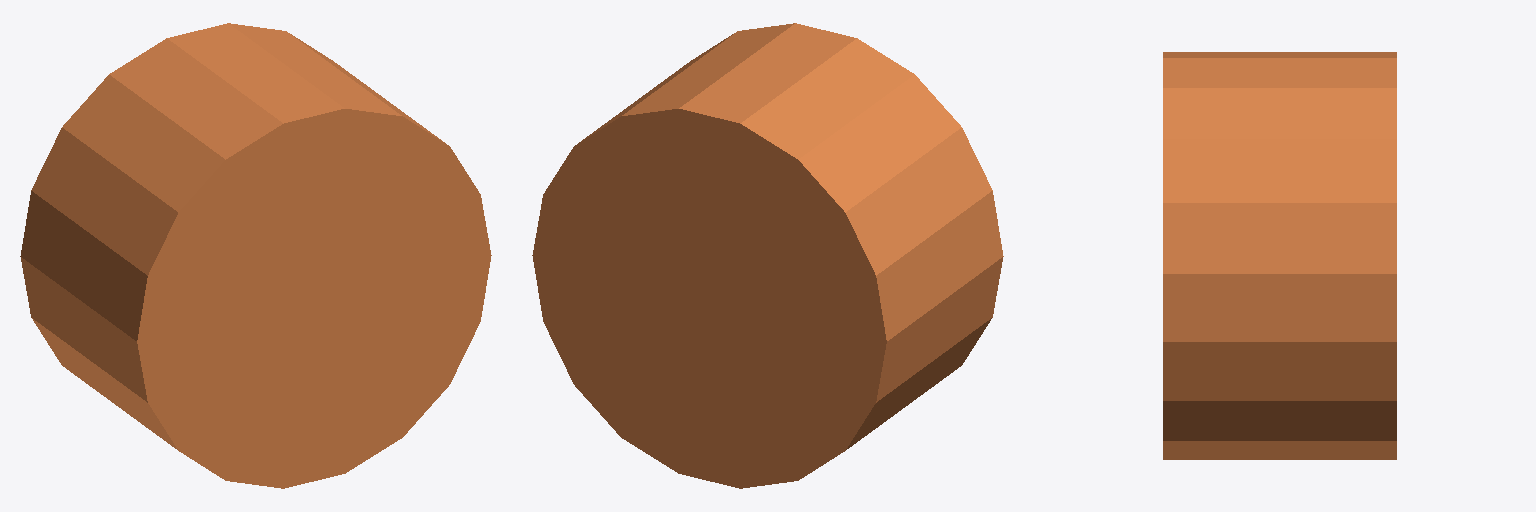
File: exp.obj
The picture shows the model from 3 angles: view 1: azimuth 30°, elevation 25°; view 2: azimuth 150°, elevation 25°; view 3: azimuth 270°, elevation 25°; orthographic projection.
Parts seen in each view (by area): view 1: Cylinder001; view 2: Cylinder001; view 3: Cylinder001.
Boxes of the visible parts, <box> form: Cylinder001: <box>20,23,491,488</box>; Cylinder001: <box>532,23,1003,488</box>; Cylinder001: <box>1163,52,1396,459</box>.
Bounding box in the file's own units: 1.61 × 1.58 × 0.9174.